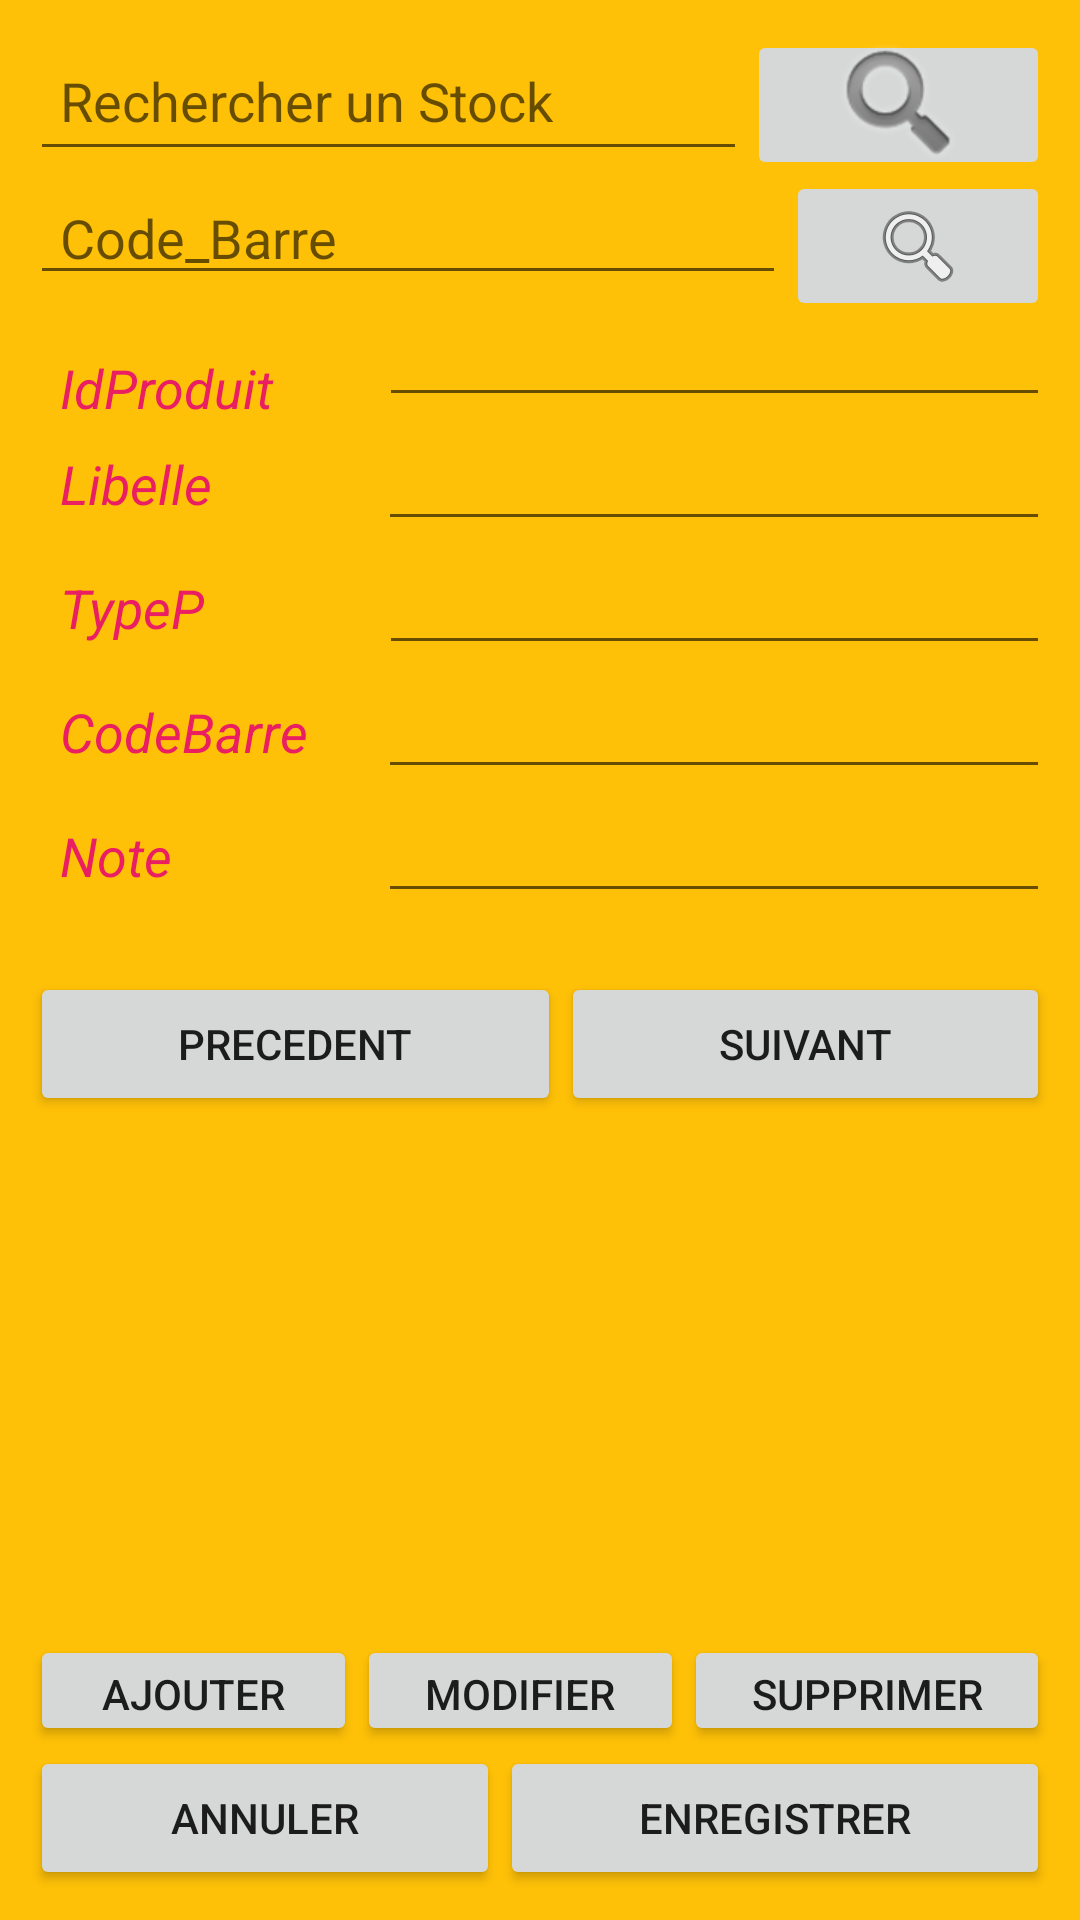

Icon click points for this 1080w x 1920h phone screenshot, format point (x, y):
search: point (918, 246)
search category: point (898, 104)
